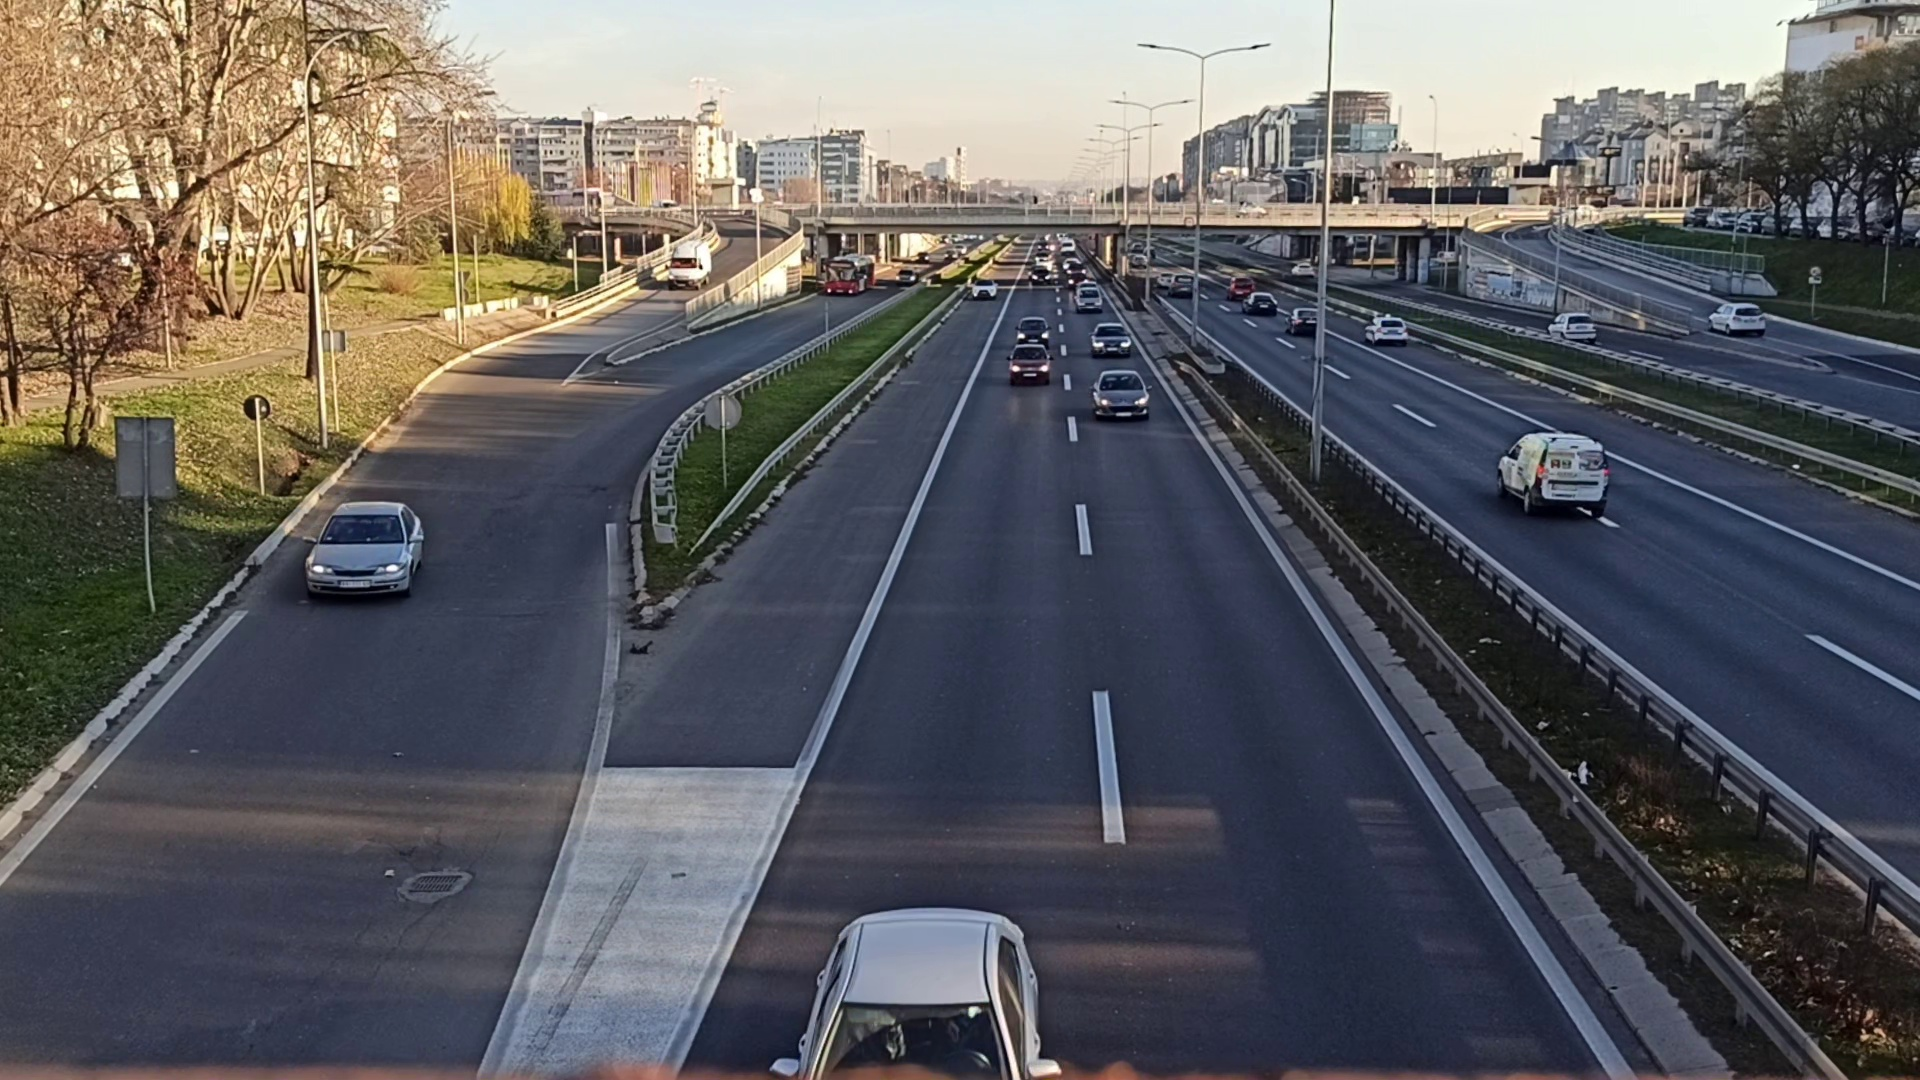bus: (824, 252, 874, 294)
car: (303, 498, 425, 599), (1095, 371, 1150, 419), (1007, 345, 1050, 381), (1088, 324, 1129, 353), (1015, 314, 1048, 345), (1287, 305, 1320, 334), (1244, 291, 1274, 314)
van: (1495, 430, 1611, 522), (669, 243, 711, 287)
